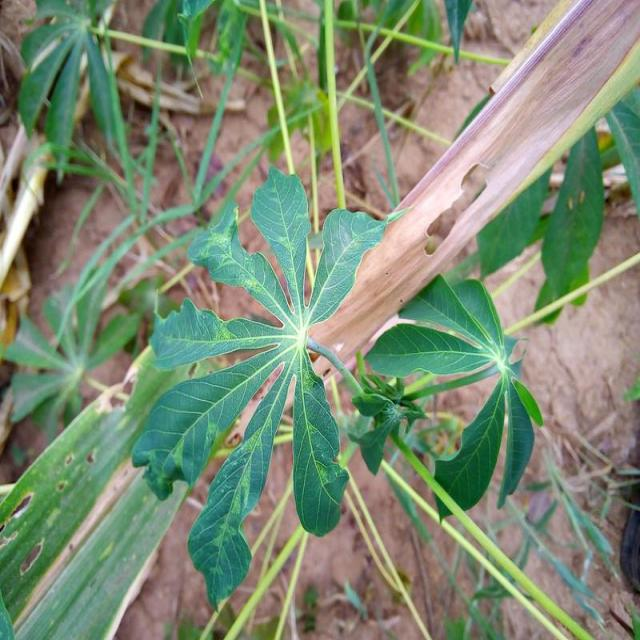cassava leaf: (0, 0, 638, 637), (130, 163, 410, 610)
